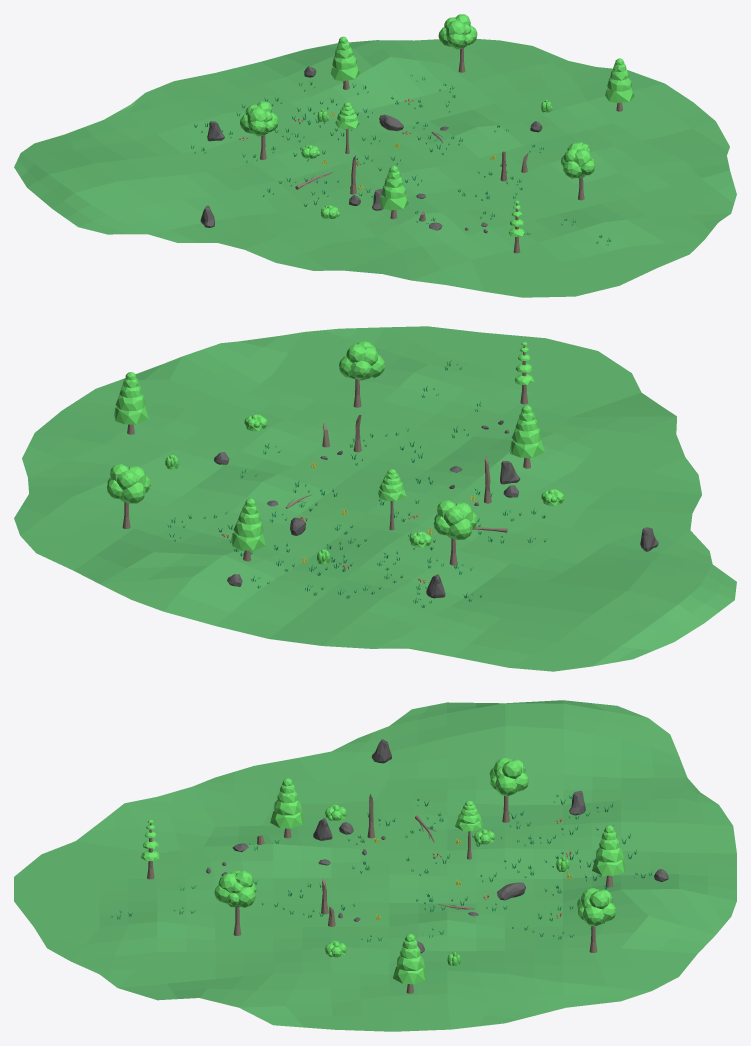
File: Ter1.glb
3 renders of one model, top to bottom at view 1: azimuth 30°, elevation 25°; view 2: azimuth 150°, elevation 25°; view 3: azimuth 270°, elevation 25°, orthographic. The views are drawn at different scales.
Parts seen in each view (by area): view 1: Plane, Sphere.001, Sphere.025, Sphere.002, Sphere.003, Sphere.004, Sphere.026, Sphere.027; view 2: Plane, Sphere.001, Sphere.025, Sphere.002, Sphere.004, Sphere.026, Sphere.003, Sphere.027, Sphere.024; view 3: Plane, Sphere.002, Sphere.001, Sphere.025, Sphere.004, Sphere.003, Sphere.026, Sphere.027, Sphere.024.
Part boxes in pixels (x1,y1,x2,y2): Plane: (14,39,736,297); Sphere.001: (240,101,278,159); Sphere.025: (438,14,477,72); Sphere.002: (561,142,595,200); Sphere.003: (379,165,408,219); Sphere.004: (330,36,360,89); Sphere.026: (605,58,634,111); Sphere.027: (335,102,359,153); Plane: (14,326,736,671); Sphere.001: (434,500,477,565); Sphere.025: (107,464,150,528); Sphere.002: (339,341,384,407); Sphere.004: (231,498,265,561); Sphere.026: (114,372,148,434); Sphere.003: (510,405,544,468); Sphere.027: (378,469,406,530); Sphere.024: (514,342,534,404); Plane: (14,700,736,1031); Sphere.002: (214,870,256,935); Sphere.001: (489,758,528,822); Sphere.025: (577,888,616,952); Sphere.004: (592,825,625,887); Sphere.003: (270,778,304,838); Sphere.026: (393,934,426,993); Sphere.027: (455,800,483,859); Sphere.024: (141,819,159,879).
Size of the model in its own units: 283 by 28.15 by 264.
